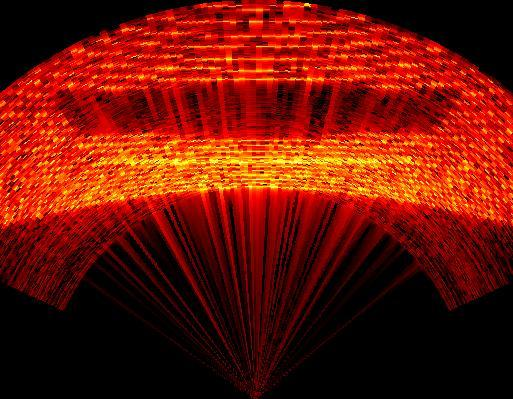pipe: (48, 80, 466, 167)
